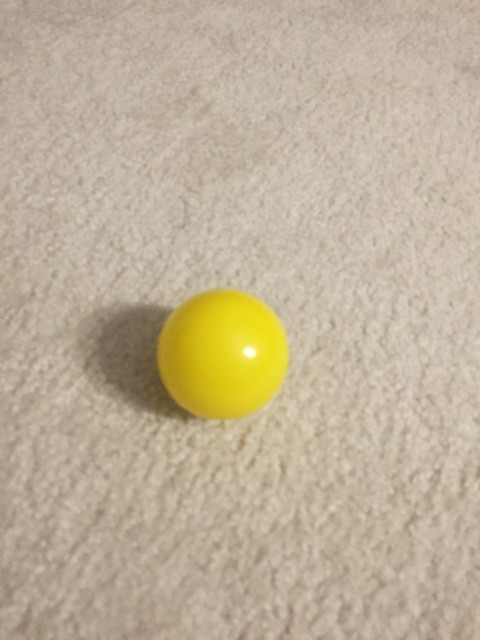ball: (153, 284, 291, 421)
